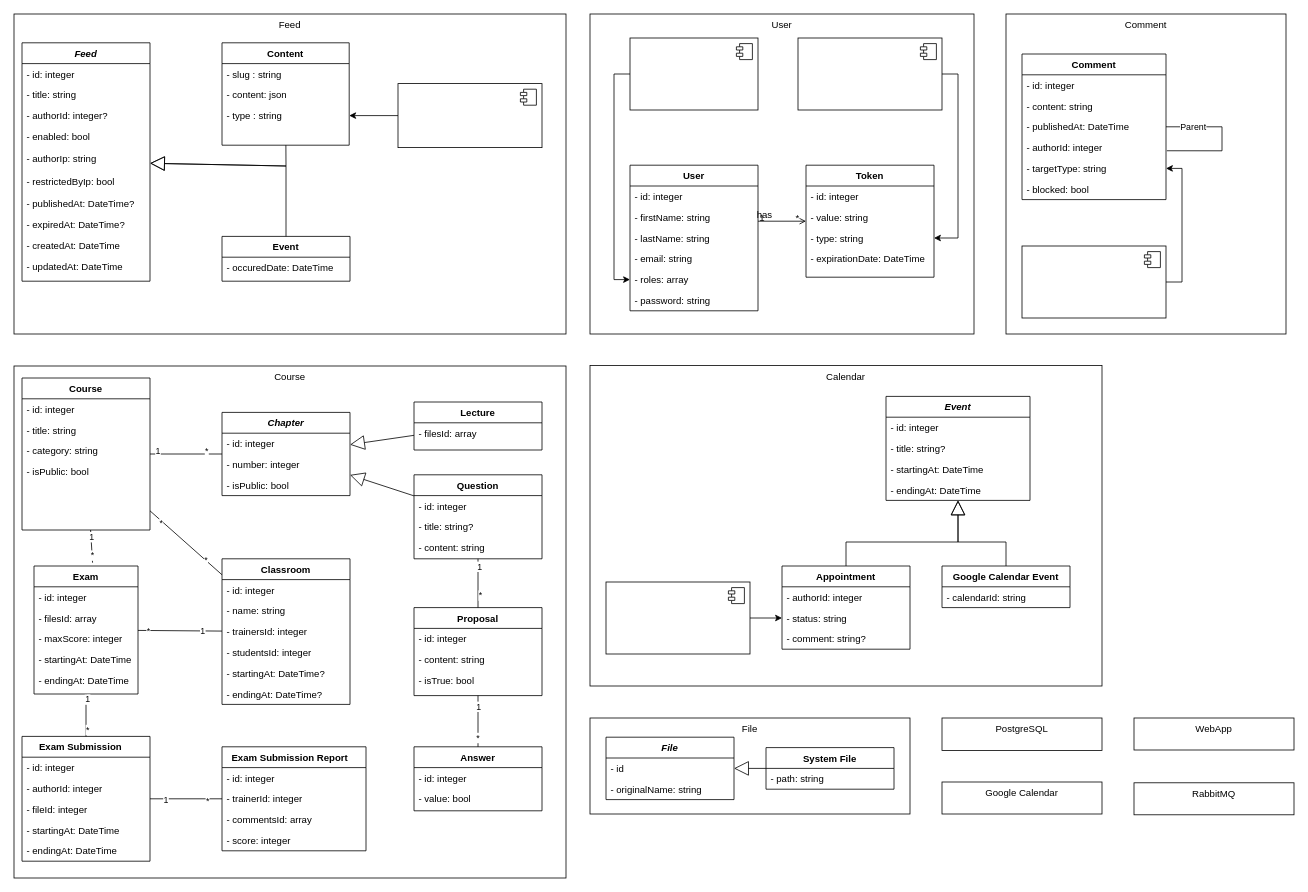
This 1308x892 diagram has some shape labels left out. Each missing label, with the centre of its shape:
"Roles ROLE_ADMIN ROLE_USER ROLE_STUDENT" belongs at pixel 693 73.
"Status PENDING REFUSED ACCEPTED" belongs at pixel 677 617.
"Target Type FEED COURSE QUESTION" belongs at pixel 1093 281.
"Type ARTICLE PROJECT NEWS" belongs at pixel 469 115.
"Type FORGOT_PASSWORD AUTHENTICATION REGISTRATION" belongs at pixel 869 73.
